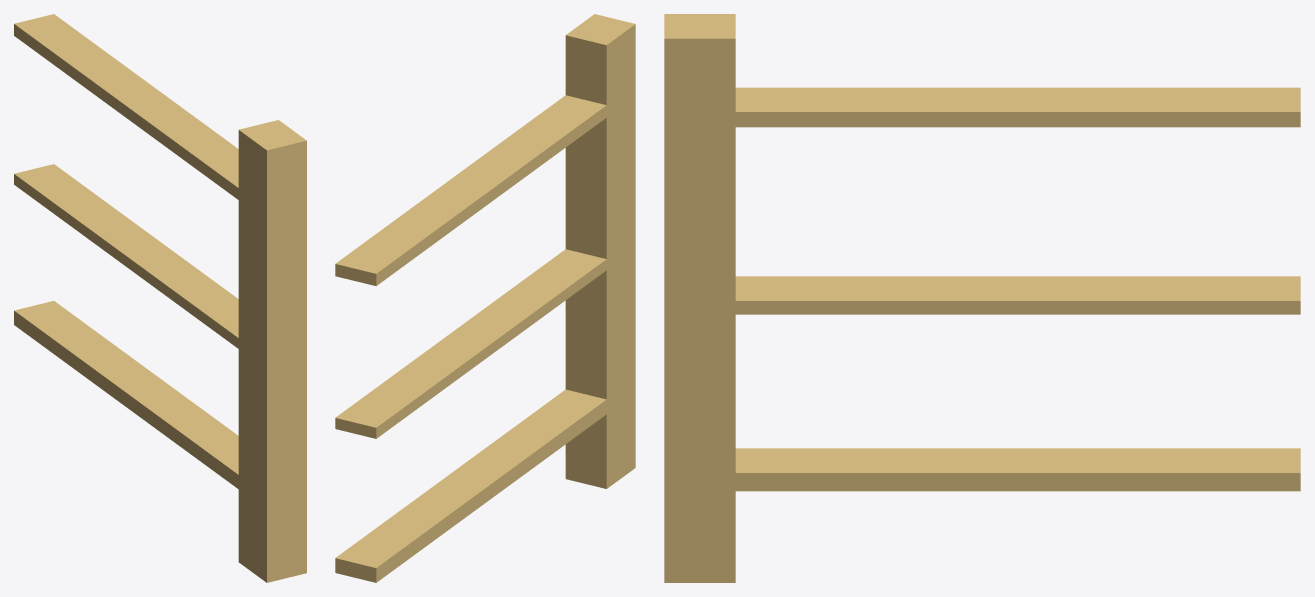
Rendered from alambrado.fbx.
3 renders of one model, left to right at view 1: azimuth 30°, elevation 25°; view 2: azimuth 150°, elevation 25°; view 3: azimuth 270°, elevation 25°, orthographic. The views are drawn at different scales.
Parts seen in each view (by area): view 1: Cube; view 2: Cube; view 3: Cube.
Boxes of the visible parts, bbox=[...] form: Cube: bbox=[14, 14, 306, 582]; Cube: bbox=[335, 14, 635, 582]; Cube: bbox=[664, 14, 1300, 582].
Size of the model in its own units: 19.37 by 200 by 212.
